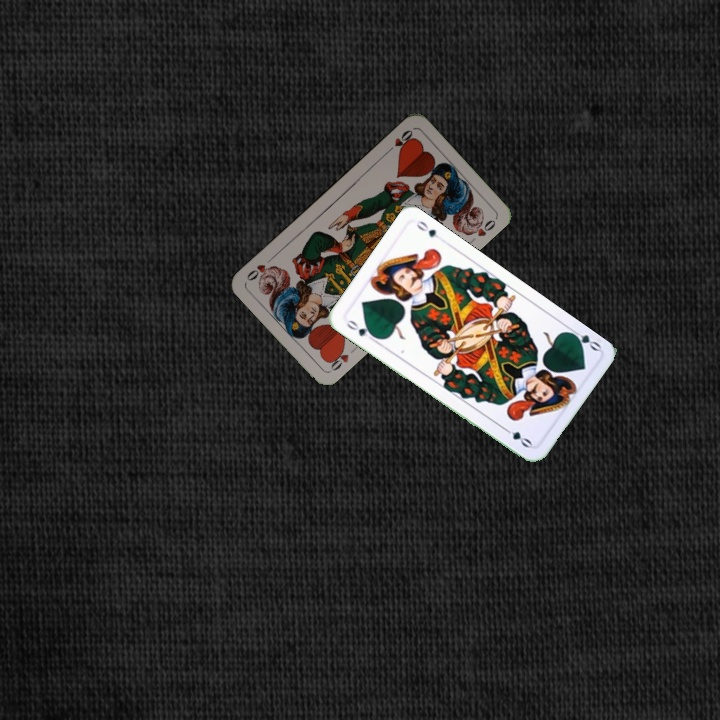GO: (564, 324, 603, 354), (342, 315, 379, 341)
HO: (382, 125, 416, 157), (324, 343, 359, 374)
